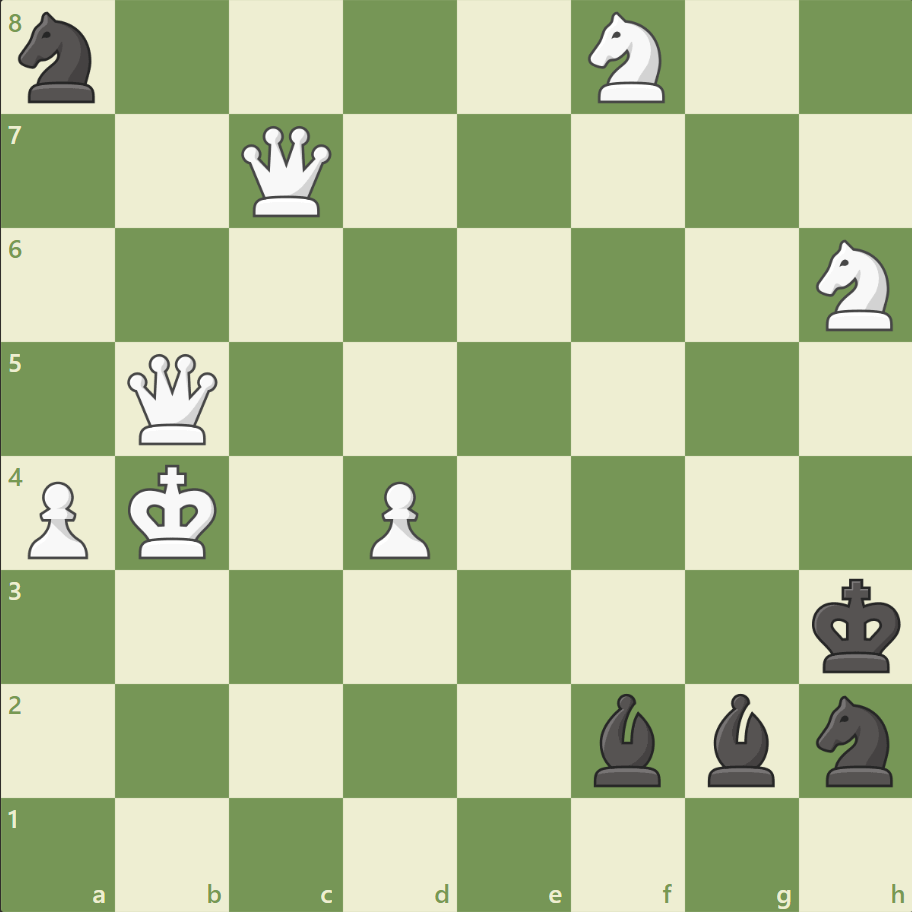K: (124, 458, 224, 566)
N: (579, 7, 676, 110), (806, 234, 903, 337)
P: (20, 473, 95, 564), (361, 473, 435, 564)
Q: (237, 122, 336, 222), (124, 349, 223, 449)
b: (585, 687, 669, 790), (698, 687, 782, 790)
k: (806, 571, 906, 679)
n: (11, 7, 108, 110), (806, 688, 903, 791)
